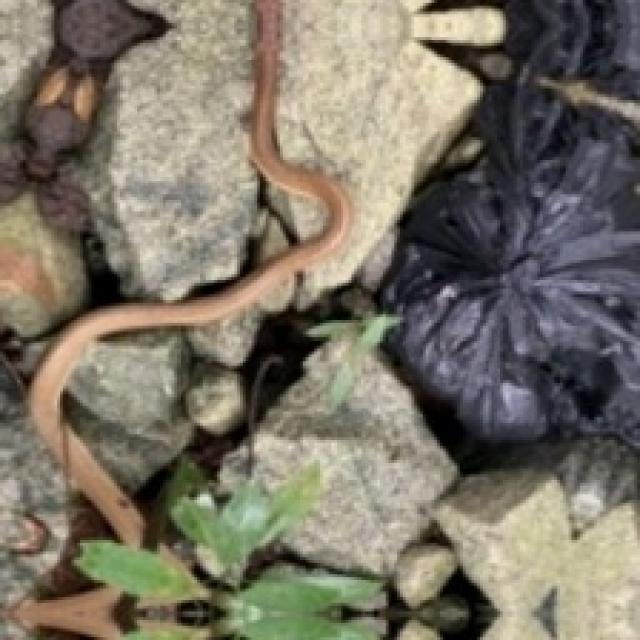king cobra: (29, 0, 351, 543)
